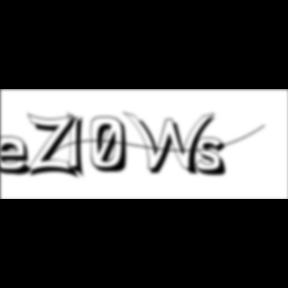0: (90, 115, 134, 174)
I: (67, 110, 91, 182)
W: (123, 110, 221, 178)
Z: (28, 112, 82, 181)
e: (1, 135, 40, 178)
s: (194, 137, 234, 179)
